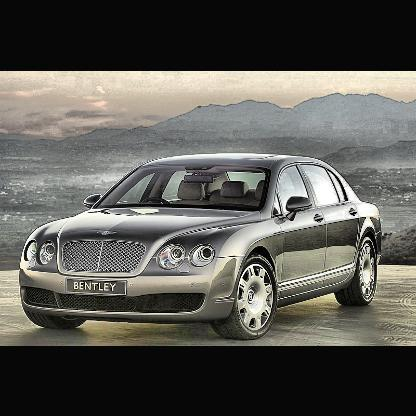Bentley Continental Flying Spur Sedan 2007: (18, 152, 383, 343)
